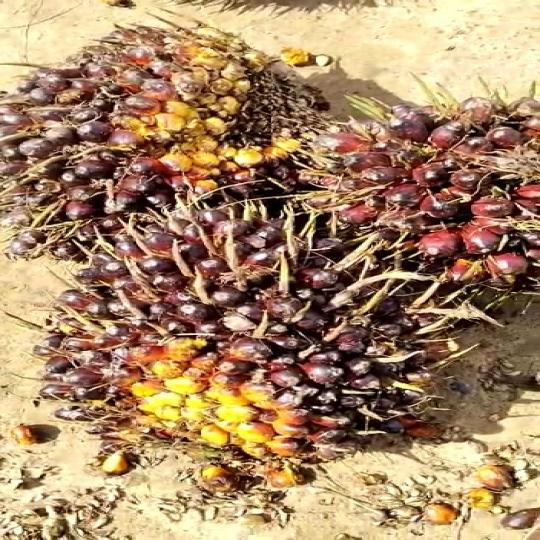kurang masak: (33, 200, 462, 475), (0, 31, 293, 235), (272, 100, 540, 292)
